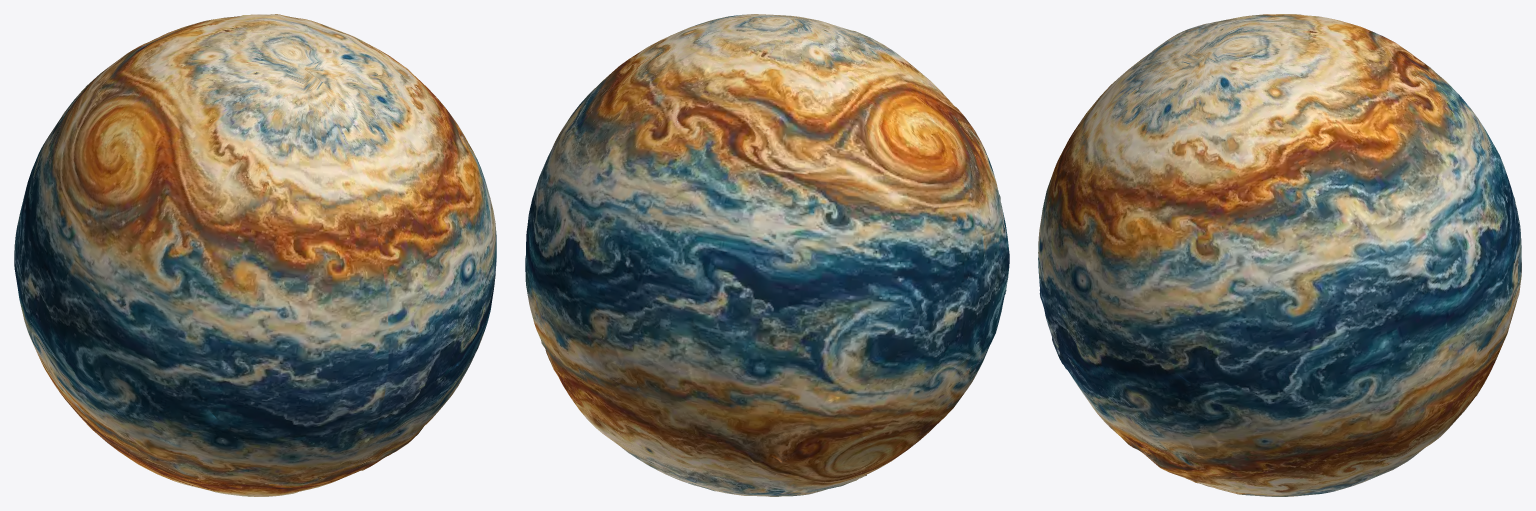
The model's file is planet_3.glb.
3 views of the same model, side by side, from view 1: azimuth 30°, elevation 25°; view 2: azimuth 150°, elevation 25°; view 3: azimuth 270°, elevation 25° (orthographic).
Parts seen in each view (by area): view 1: Mesh_0.001; view 2: Mesh_0.001; view 3: Mesh_0.001.
Boxes of the visible parts, bbox=[...] form: Mesh_0.001: bbox=[14, 14, 496, 496]; Mesh_0.001: bbox=[525, 14, 1009, 496]; Mesh_0.001: bbox=[1038, 14, 1521, 496].
Size of the model in its own units: 1.9 by 1.9 by 1.9.
1 material, 1 textured.
